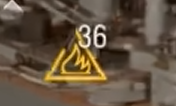1fire: (42, 52, 109, 83)
